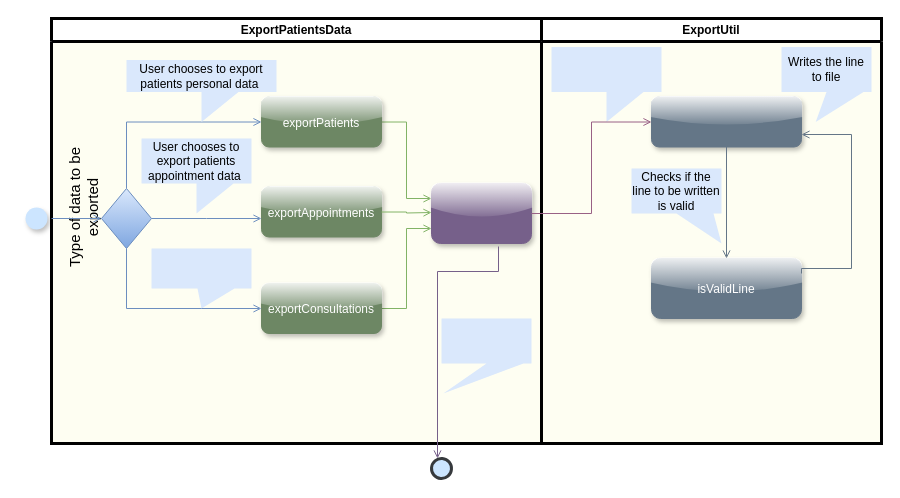
Some shapes in this 900 by 498 pixel diagram are drawn without their labels. The shapes that lost their labels are listed below. From the top down, each one's centre as x and y in pixels, then its label:
point 606,84: Passes data and file to write to
point 727,123: writeLines
point 482,214: execute
point 201,278: User chooses to export patients consultation data
point 486,355: returns success or failure message
